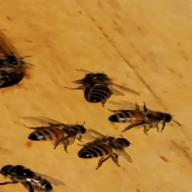Bee: (78, 126, 140, 167), (96, 104, 182, 132), (29, 114, 88, 150), (3, 160, 63, 192)
